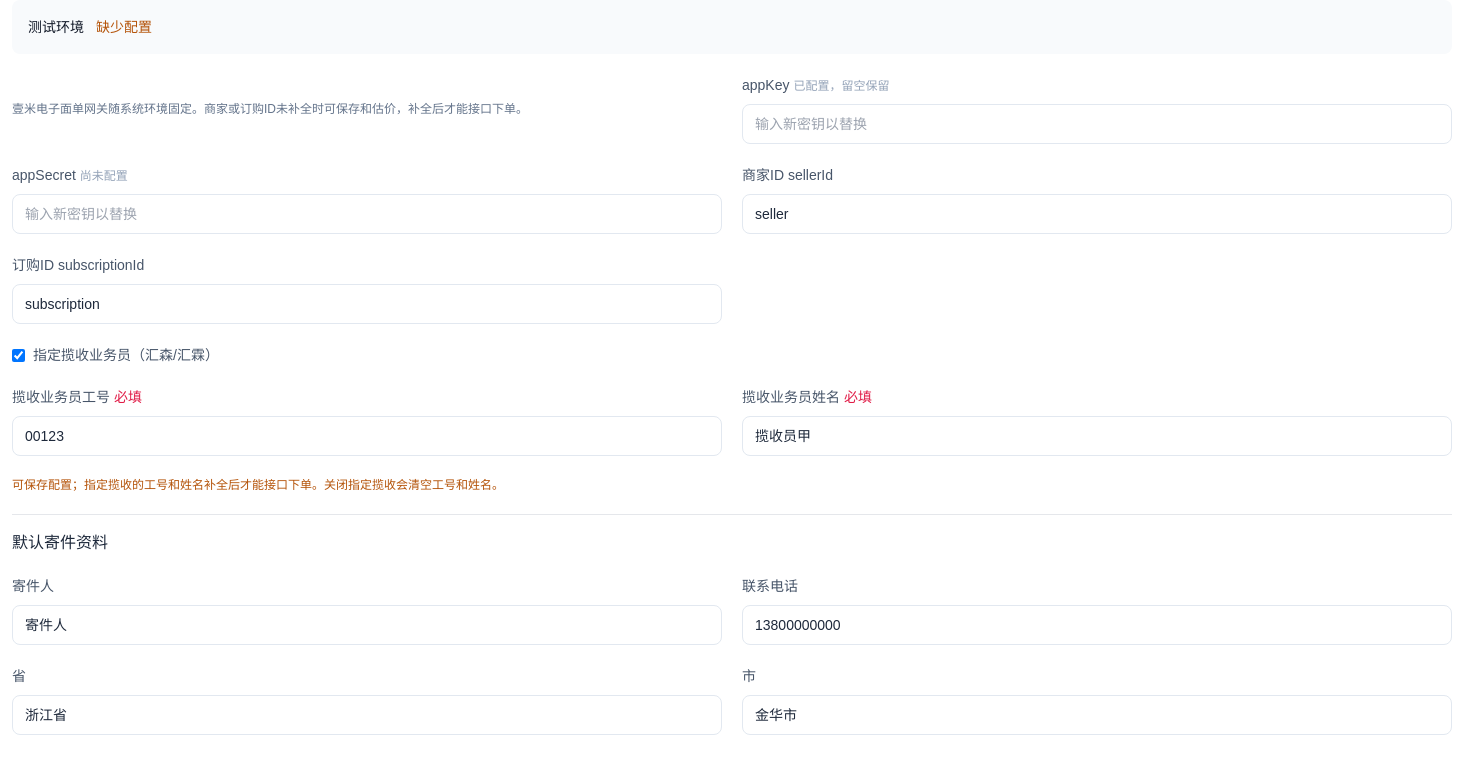
Test: logistics configuration forms › still warns about a changed Yimi identity when subscriptionId changes
The image size is (1464, 759).
Expected: the text "账号身份已变更" is not shown
Replace the text in the field labelled "订购ID subscriptionId" with "changed". click: [367, 304]
box: [12, 284, 722, 324]
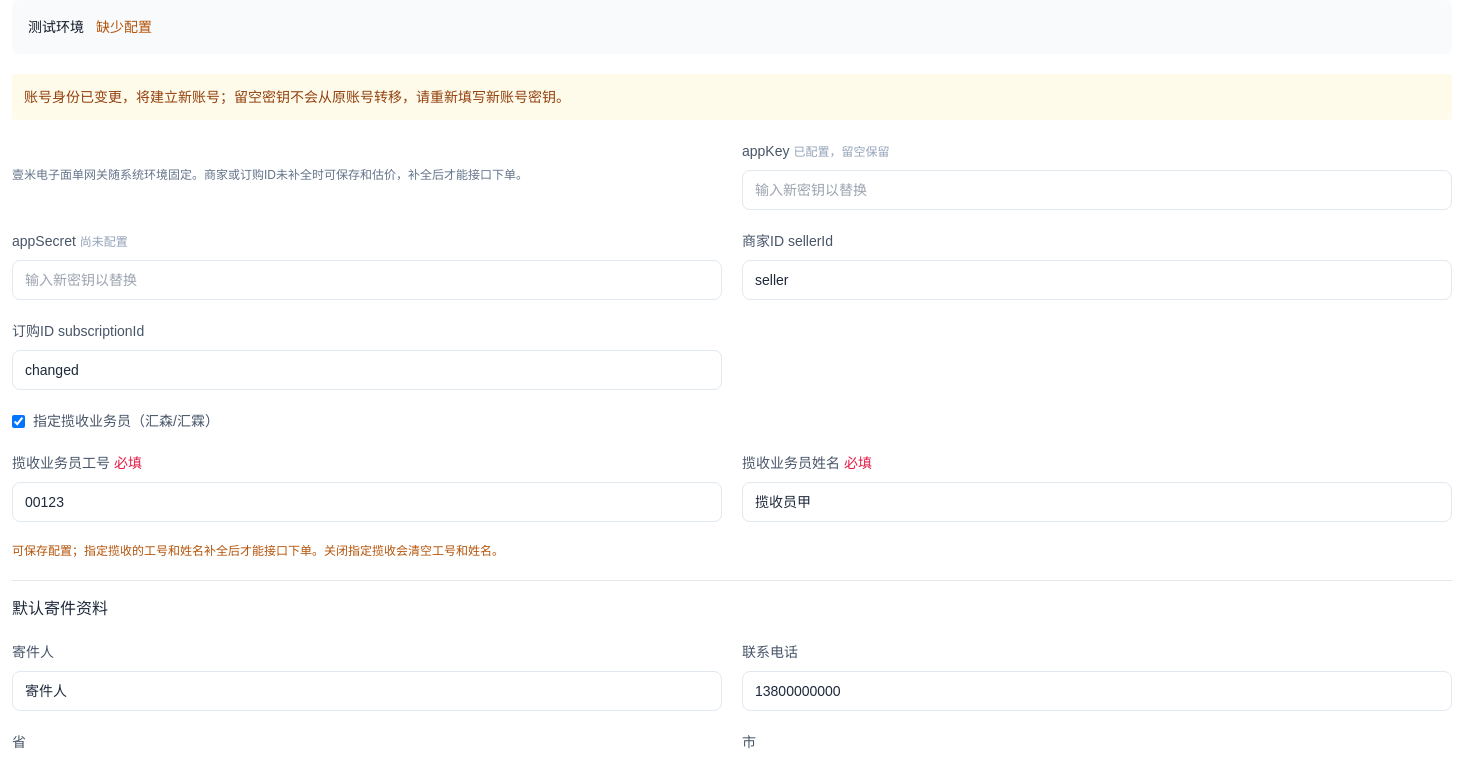
Expected: the text "账号身份已变更" is shown, [24, 89, 570, 105]
